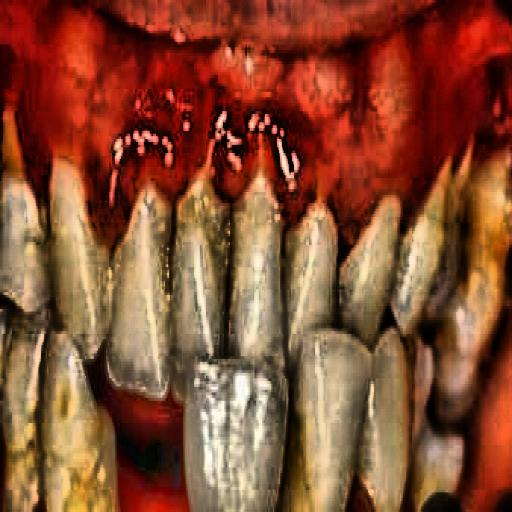Gingivitis: (1, 0, 498, 214)
